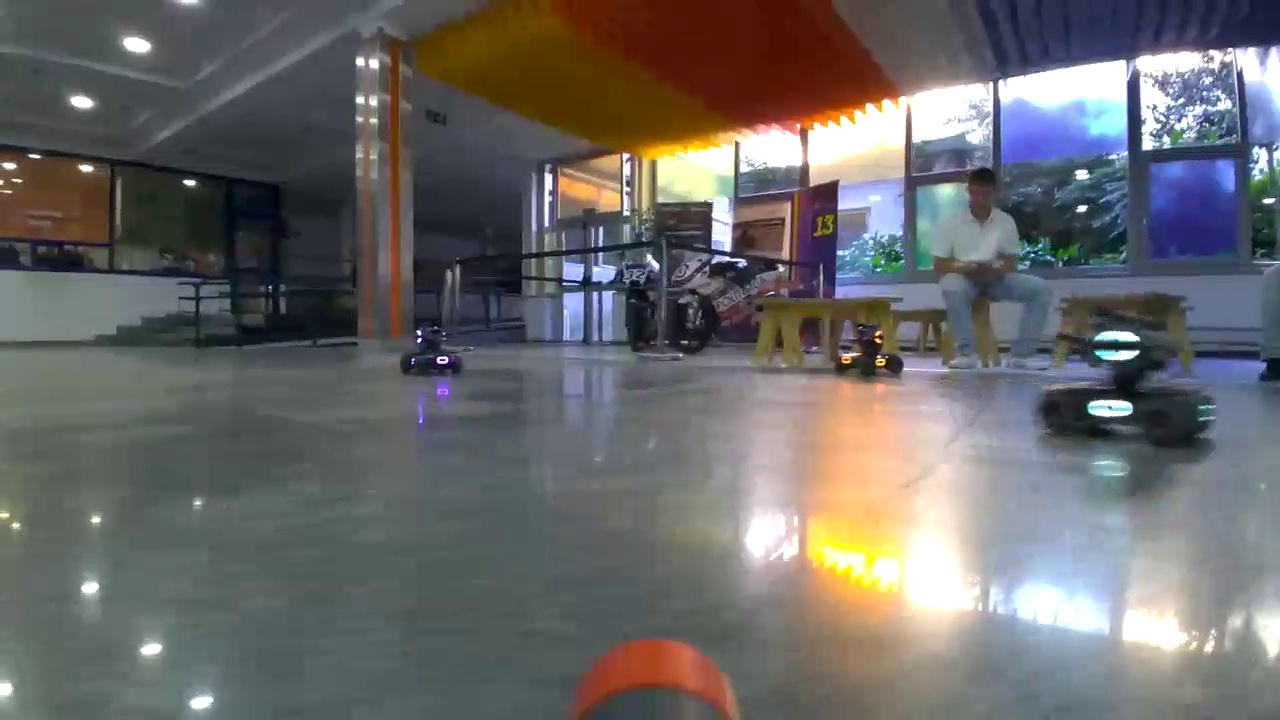robot: (1040, 318, 1220, 450), (833, 322, 902, 374), (400, 323, 463, 374)
